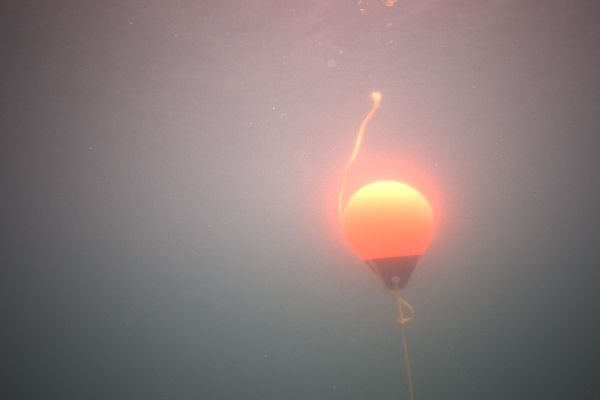buoy: (342, 181, 432, 290)
